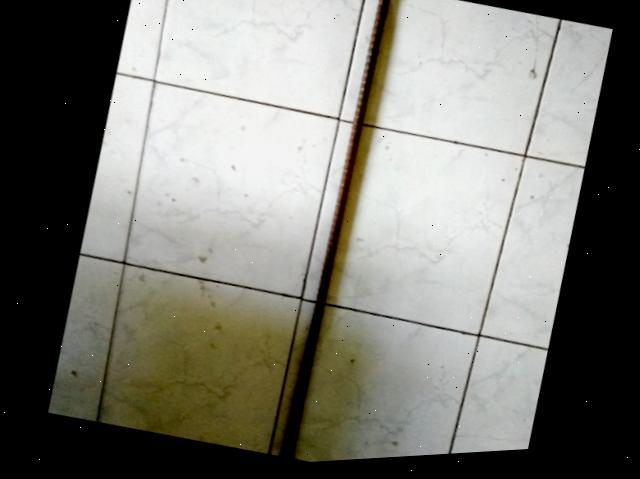crow bar: (269, 0, 395, 462)
